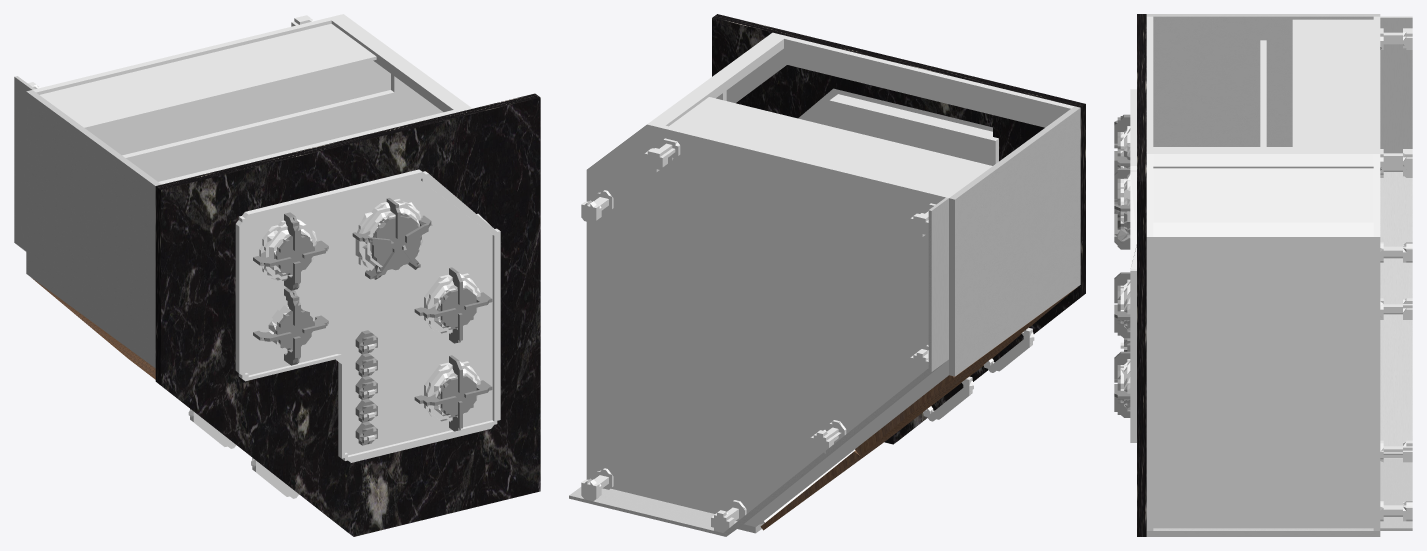
Rendered from stove1.glb.
The picture shows the model from 3 angles, left to right: view 1: azimuth 30°, elevation 25°; view 2: azimuth 150°, elevation 25°; view 3: azimuth 270°, elevation 25°; orthographic projection. The views are drawn at different scales.
Parts seen in each view (by area): view 1: Corner Stove Kitchen N150625; view 2: Corner Stove Kitchen N150625; view 3: Corner Stove Kitchen N150625.
Part boxes in pixels (x1=…): Corner Stove Kitchen N150625: x1=14, y1=14, x2=540, y2=536; Corner Stove Kitchen N150625: x1=569, y1=14, x2=1085, y2=536; Corner Stove Kitchen N150625: x1=1114, y1=14, x2=1412, y2=536.
Size of the model in its own units: 0.00122 by 0.00121 by 0.00092.
6 materials, 3 textured.
